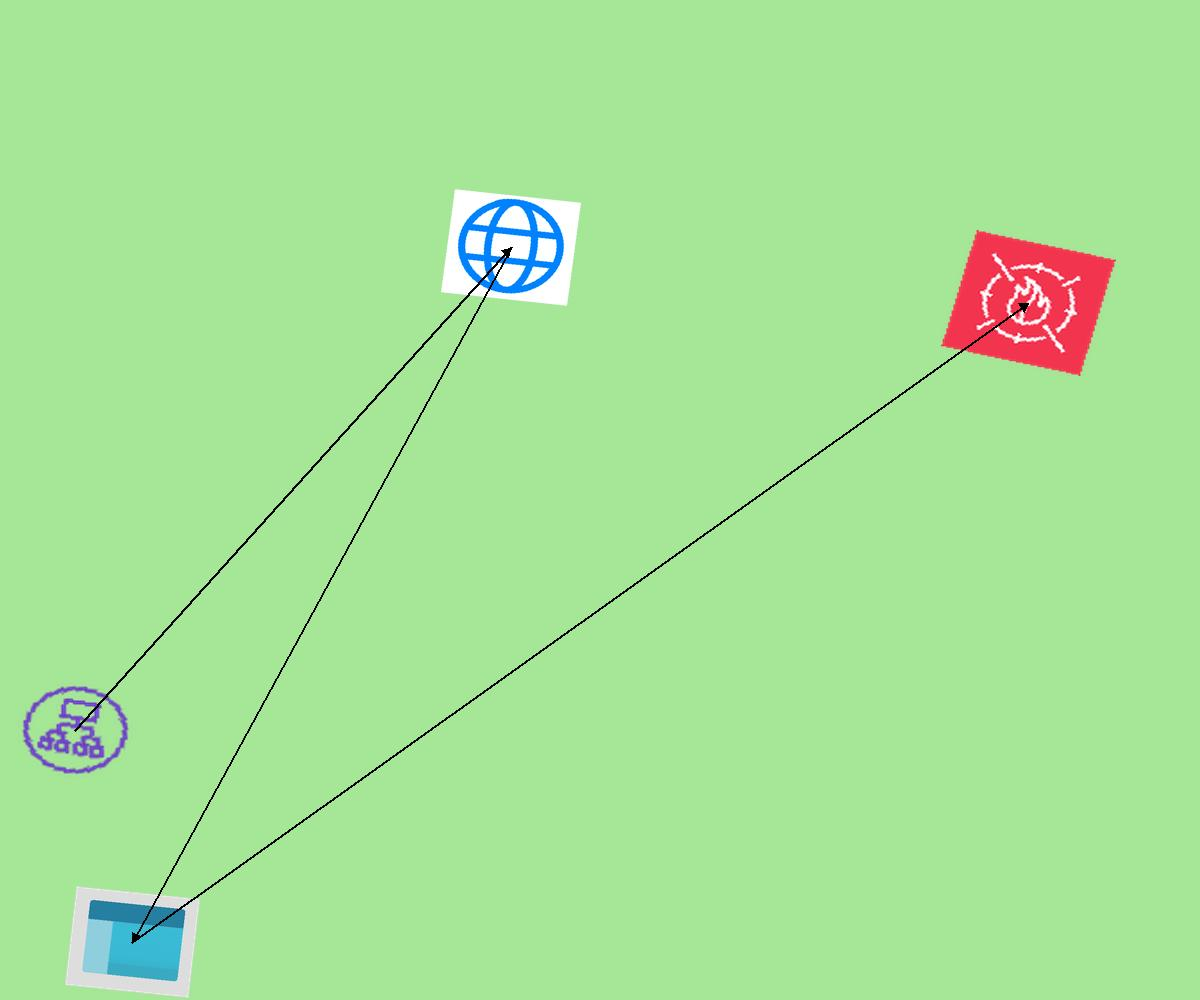AWS-Res_Elastic-Load-Balancing_Application-Load-Balancer: (7, 673, 144, 787)
AWS-WAF: (941, 230, 1116, 376)
Azure_http: (441, 189, 581, 306)
Azure_management-portal: (65, 886, 200, 998)
